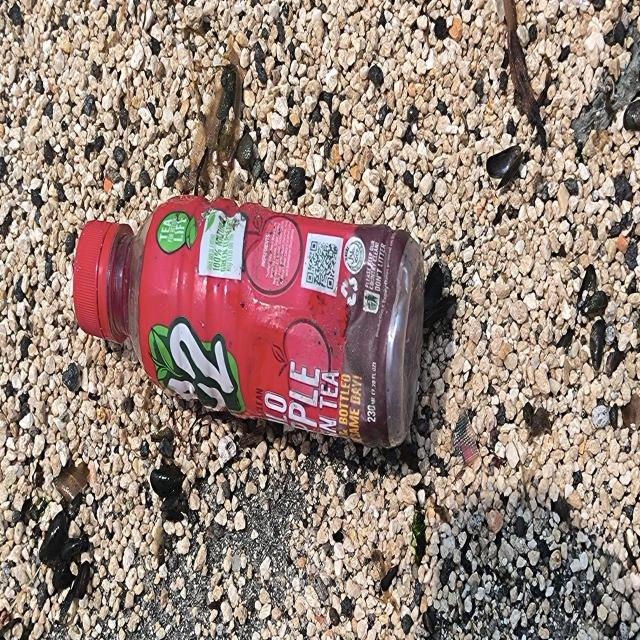plastic_waste: (71, 192, 426, 449)
